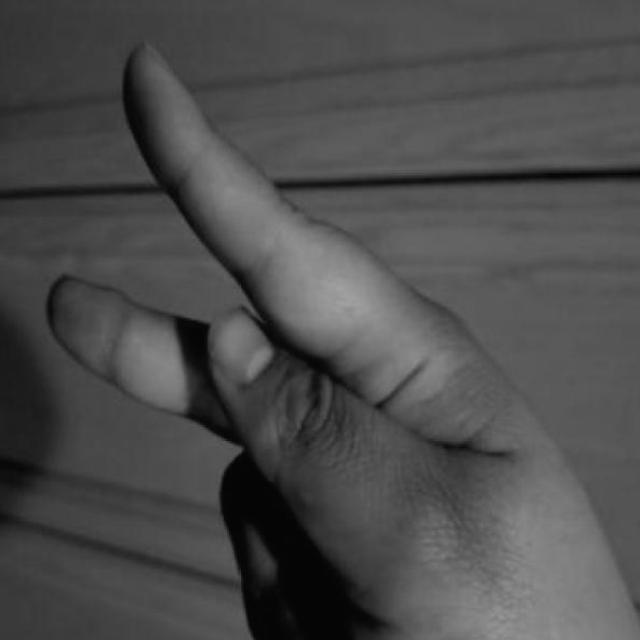P: (27, 21, 567, 640)
